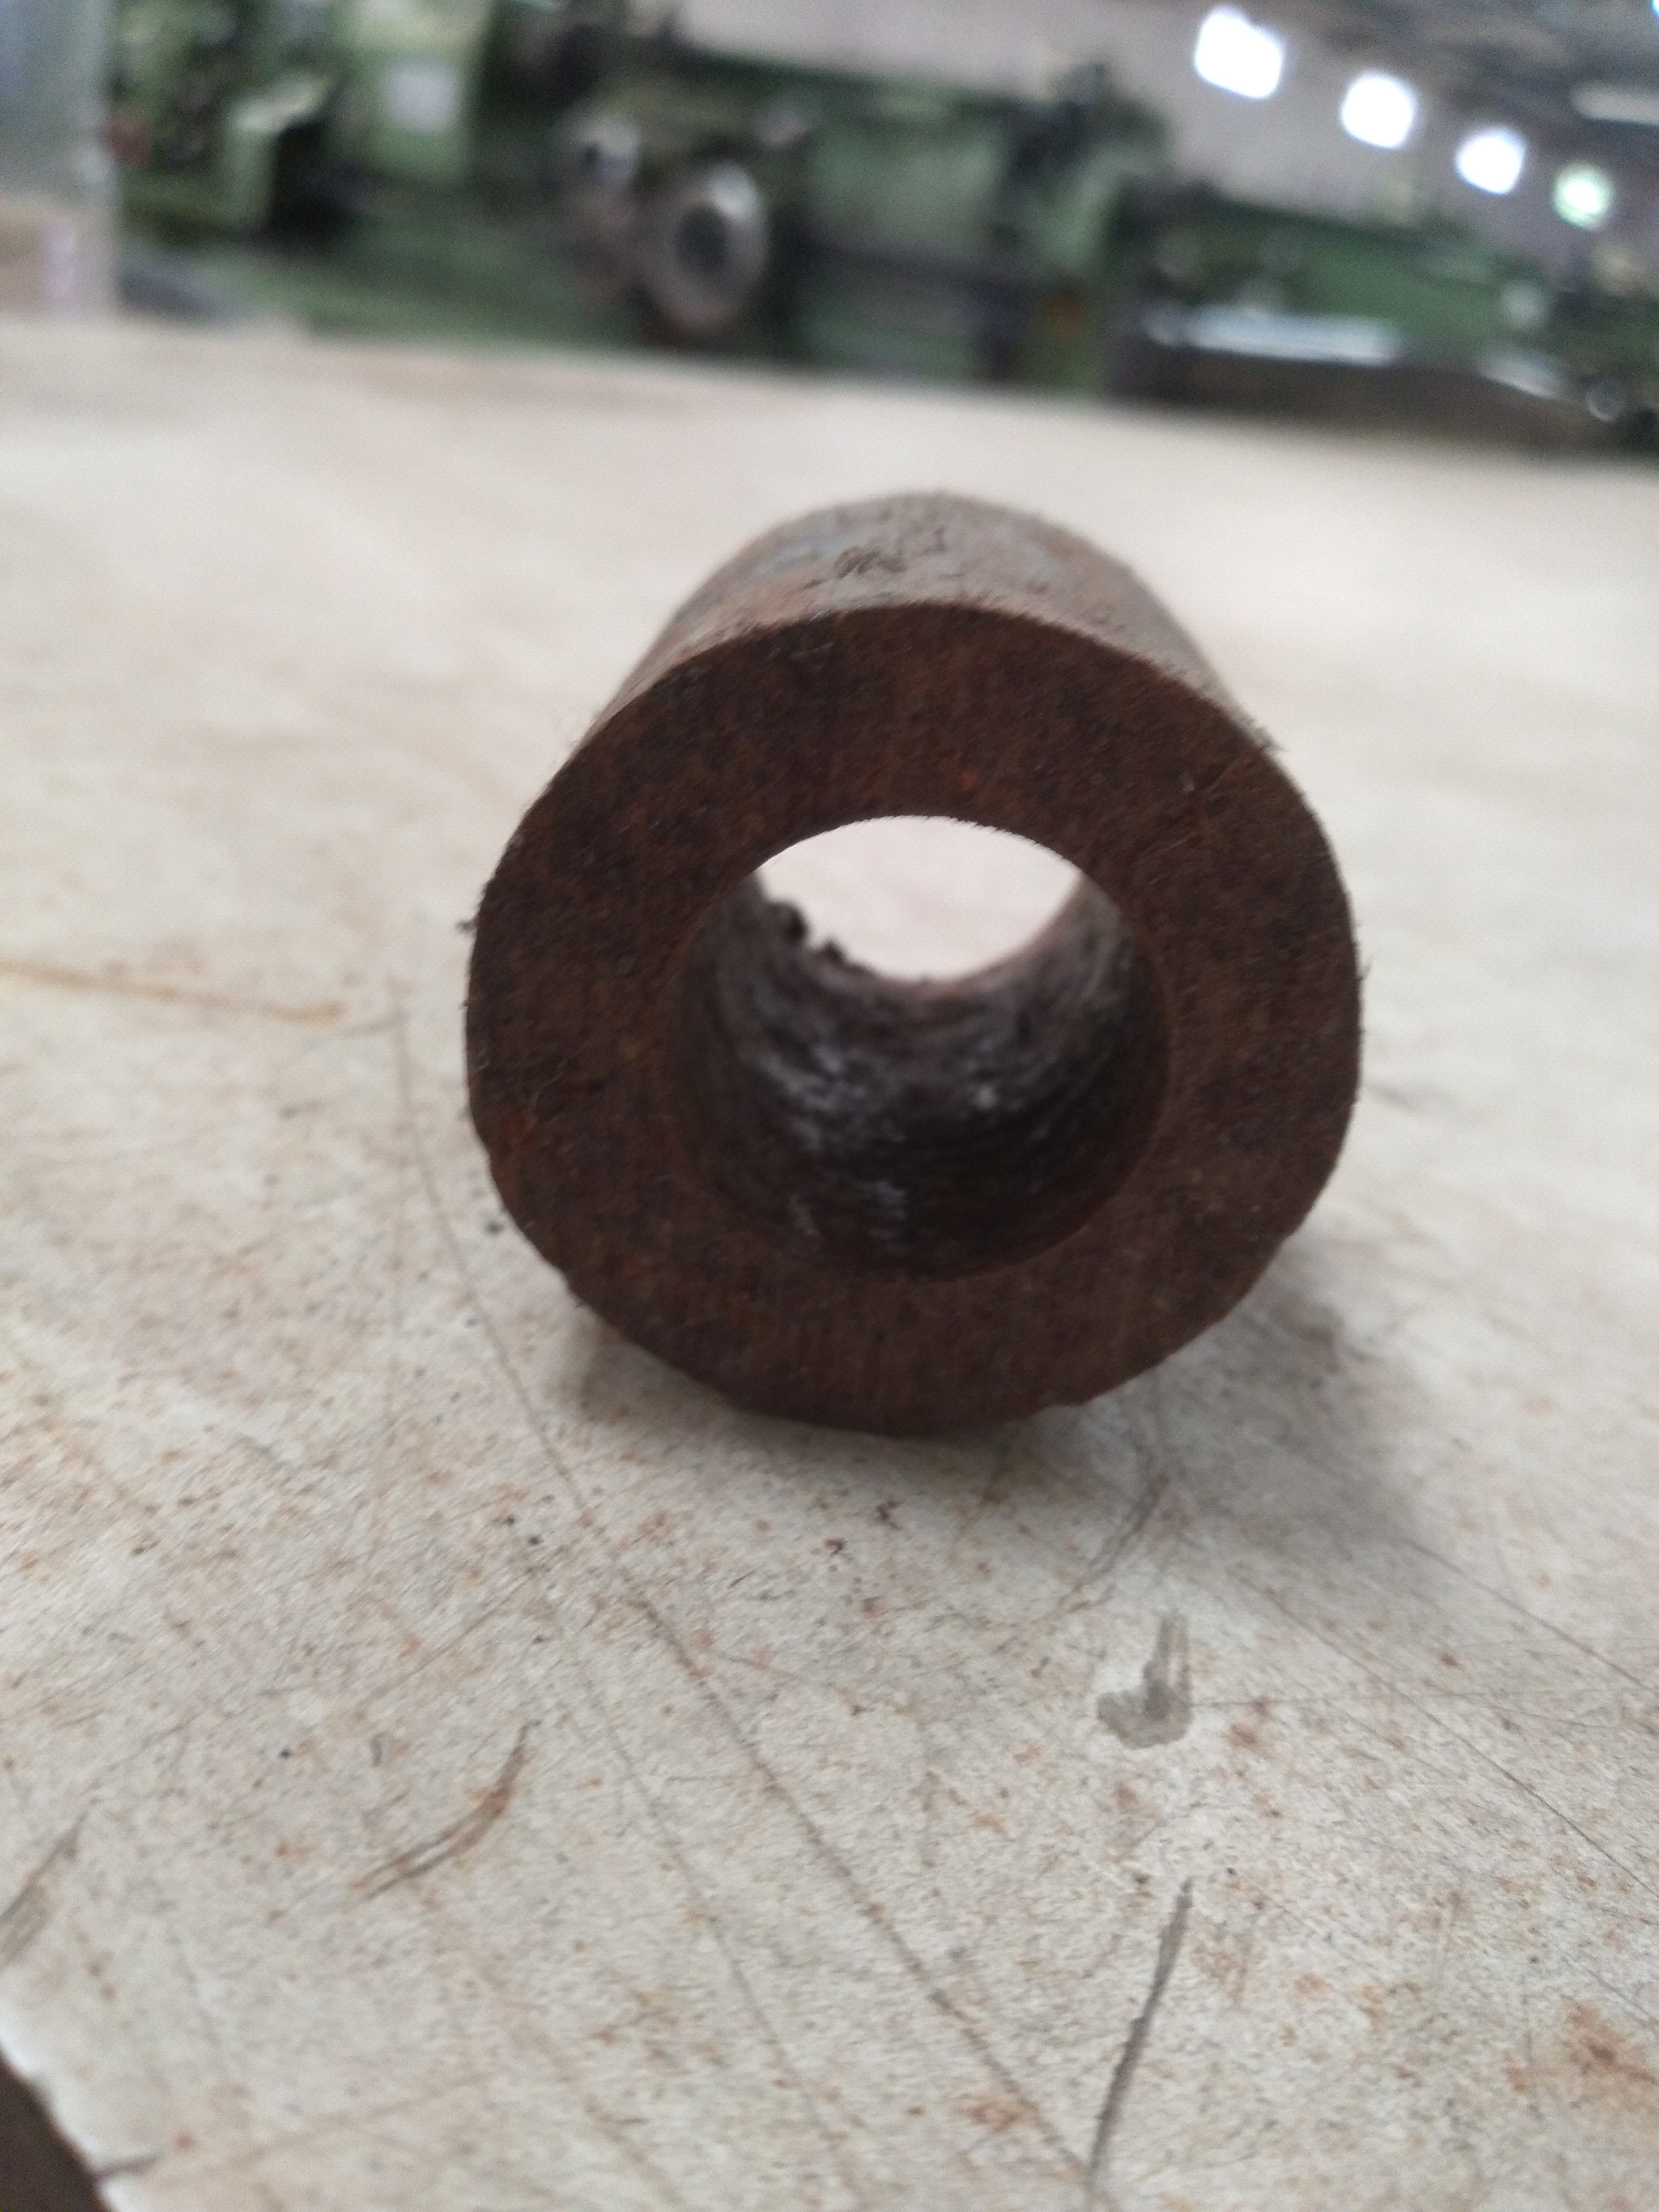No thread: (674, 744, 1195, 1336)
